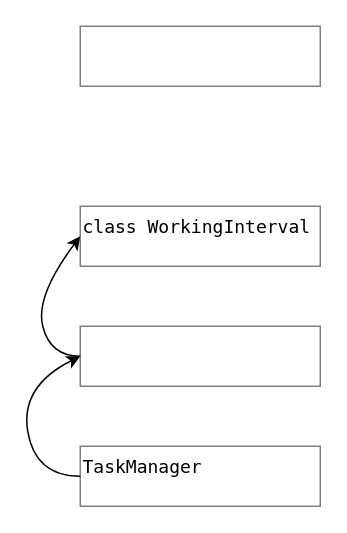
This 347x533 diagram has some shape labels left out. The shapes that lost their labels are listed below. From the top down, each one's centre as x and y in pixels, then its label:
At (x=199, y=55): "Code sample".
At (x=199, y=355): "class Task".
